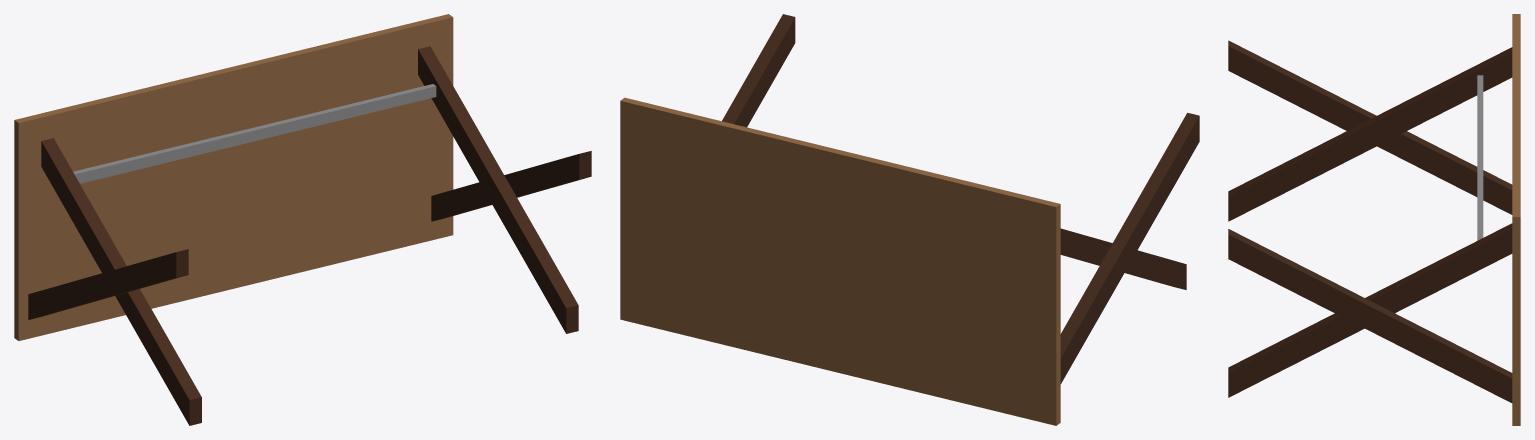
File: Desk.glb
3 views of the same model, side by side, from view 1: azimuth 30°, elevation 25°; view 2: azimuth 150°, elevation 25°; view 3: azimuth 270°, elevation 25° (orthographic). The views are drawn at different scales.
Parts seen in each view (by area): view 1: Desk; view 2: Desk; view 3: Desk.
Boxes of the visible parts, x1,y1,x2,y2 form: Desk: (14, 14, 591, 425); Desk: (620, 14, 1199, 425); Desk: (1228, 14, 1520, 425).
Bounding box in the file's own units: 1.56 × 0.75 × 0.9509.
1 material, 1 textured.
